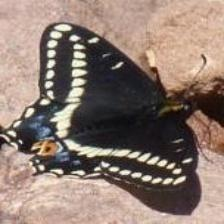butterfly: (0, 23, 201, 214)
